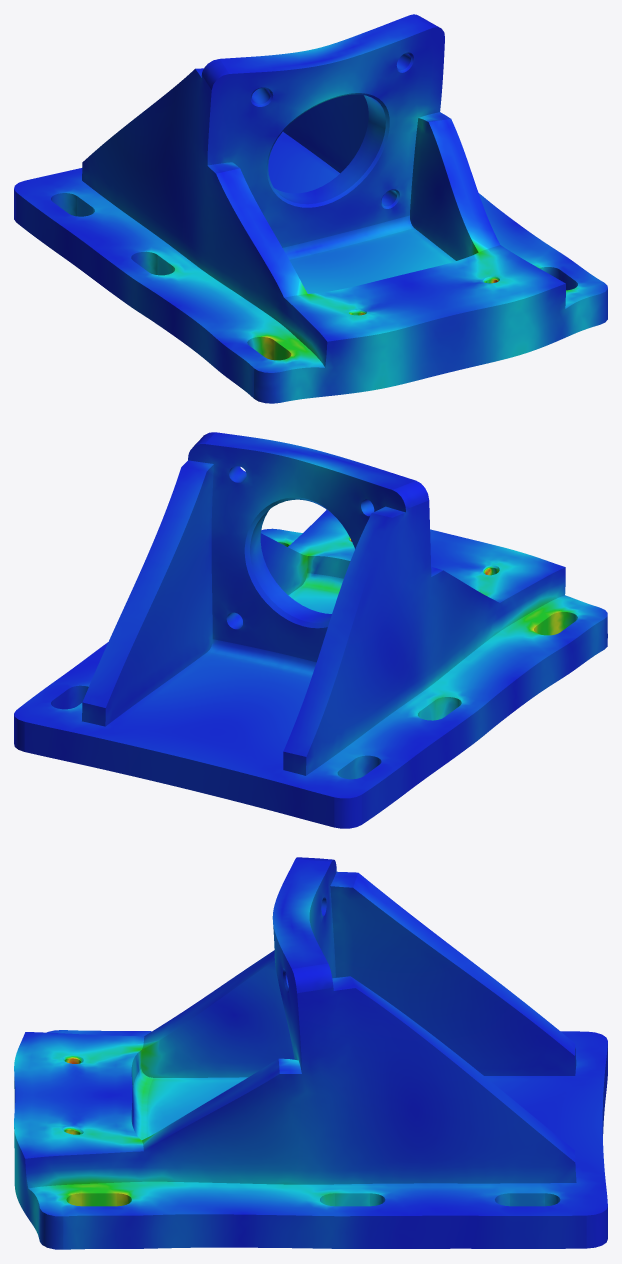
The model's file is result.glb.
The picture shows the model from 3 angles, top to bottom: view 1: azimuth 30°, elevation 25°; view 2: azimuth 150°, elevation 25°; view 3: azimuth 270°, elevation 25°; orthographic projection. The views are drawn at different scales.
Visible parts, largest first — view 1: nema23-bk12-cnc-bracket von Mises; view 2: nema23-bk12-cnc-bracket von Mises; view 3: nema23-bk12-cnc-bracket von Mises.
Part boxes in pixels (x1=…): nema23-bk12-cnc-bracket von Mises: x1=14, y1=14, x2=607, y2=403; nema23-bk12-cnc-bracket von Mises: x1=14, y1=432, x2=607, y2=828; nema23-bk12-cnc-bracket von Mises: x1=14, y1=857, x2=607, y2=1249.
Size of the model in its own units: 0.1211 by 0.0753 by 0.1629.
1 material, 1 textured.
